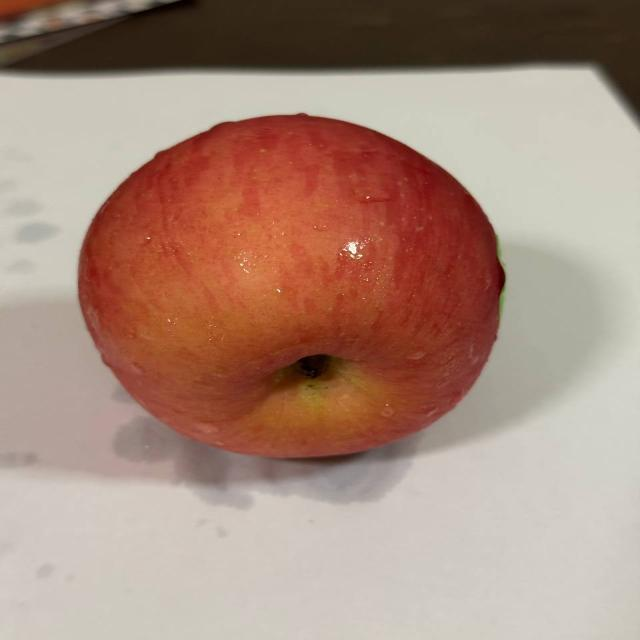apple: (64, 103, 518, 467)
